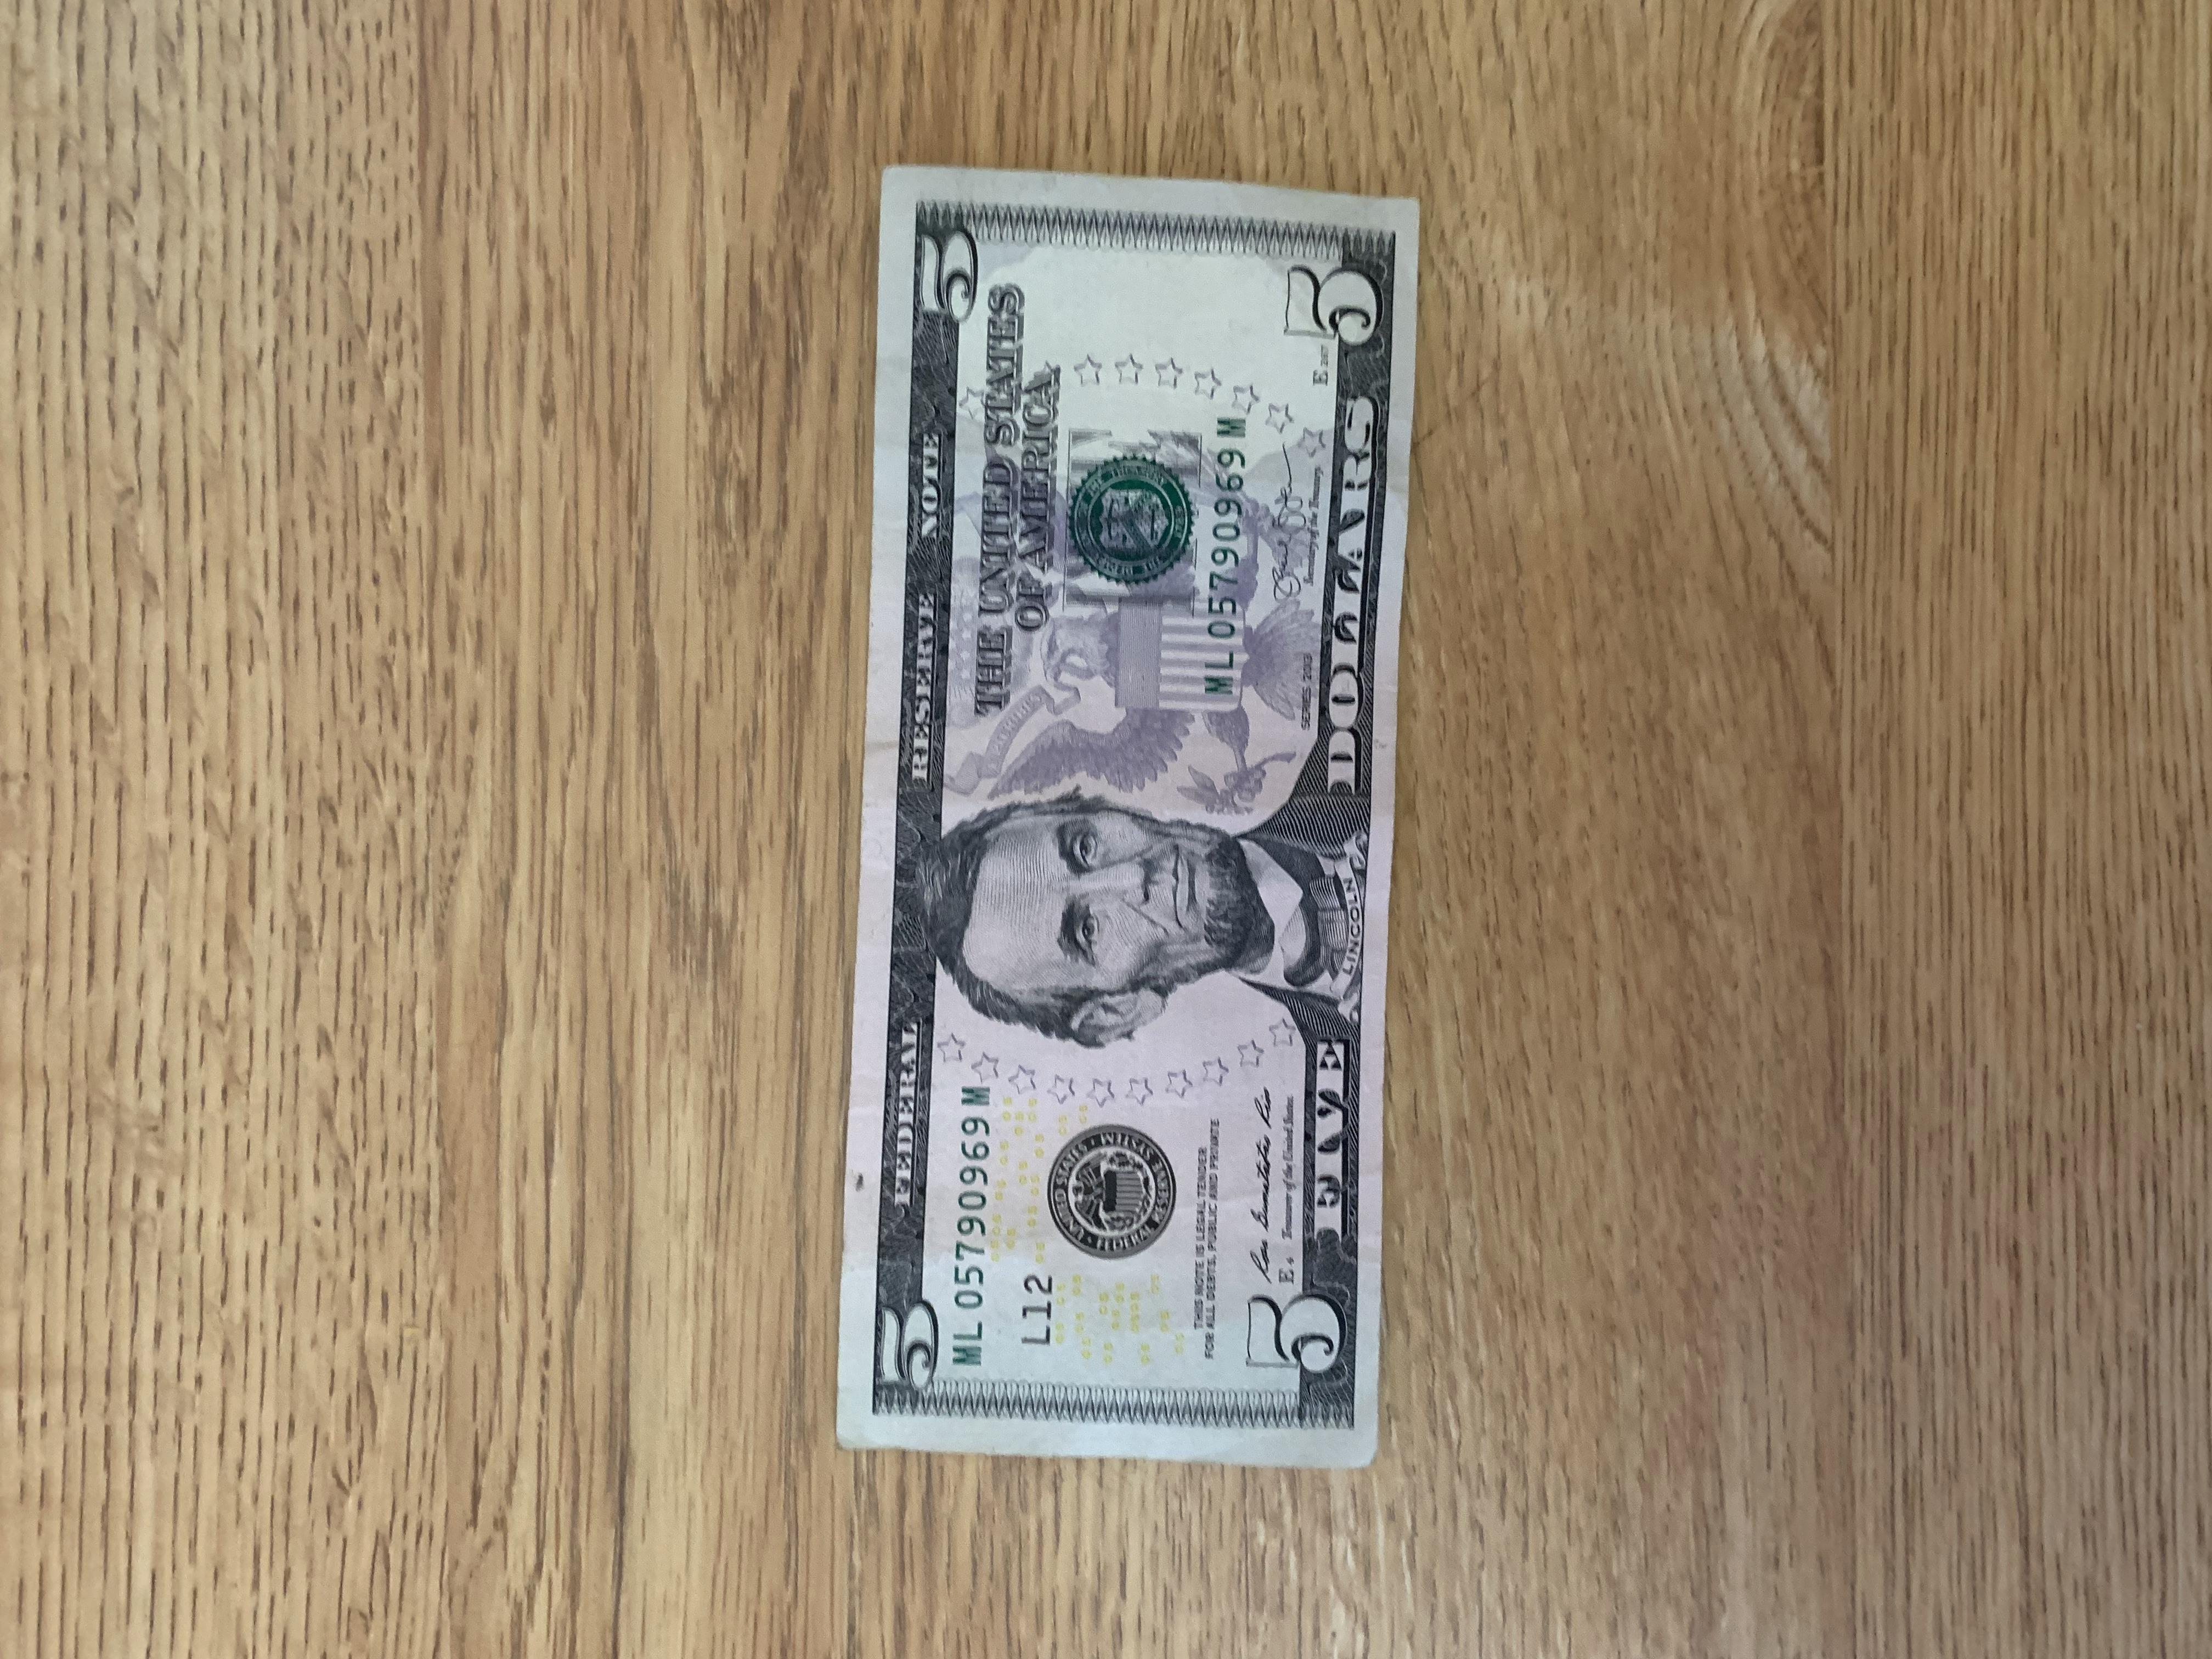FiveBill: (834, 150, 1440, 1467)
